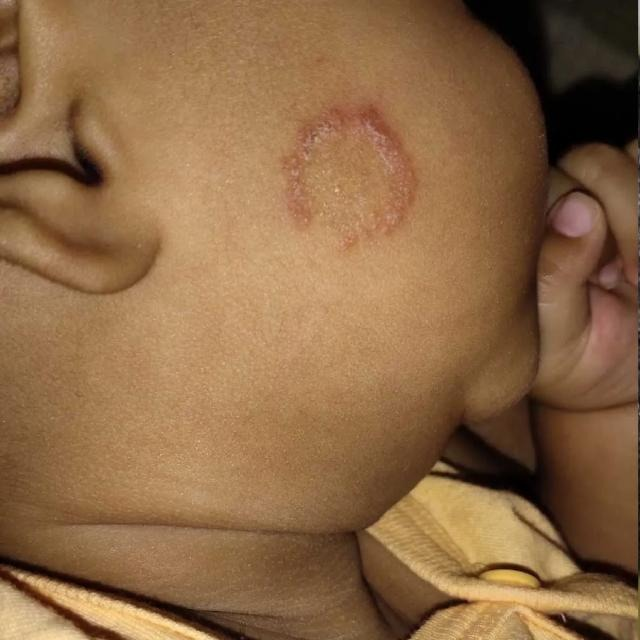Ringworm: (277, 87, 428, 253)
